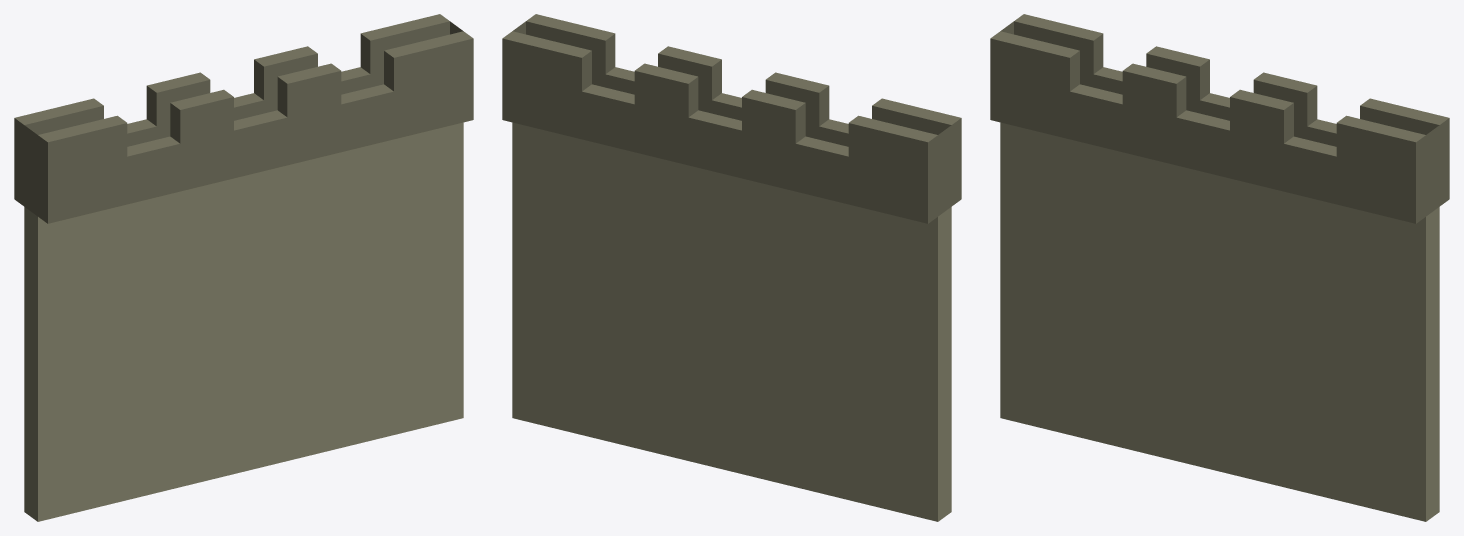
File: castleWall.dae
3 views of the same model, side by side, from view 1: azimuth 30°, elevation 25°; view 2: azimuth 150°, elevation 25°; view 3: azimuth 330°, elevation 25° (orthographic).
Visible parts, largest first — view 1: wall.001; view 2: wall.001; view 3: wall.001.
Part boxes in pixels (x1=…): wall.001: x1=14, y1=14, x2=473, y2=521; wall.001: x1=502, y1=14, x2=961, y2=521; wall.001: x1=990, y1=14, x2=1449, y2=521.
Size of the model in its own units: 15.93 by 2.17 by 13.83.
